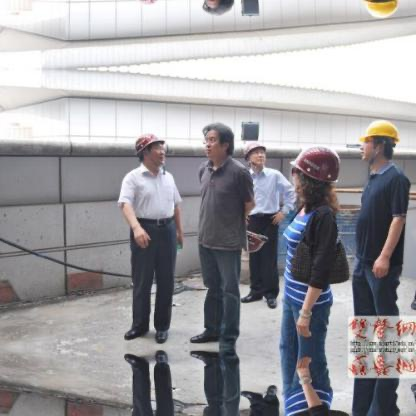No Safety Helmet: (198, 121, 238, 172)
Safety Helmet: (286, 140, 346, 209), (355, 116, 405, 174), (129, 128, 173, 177), (241, 137, 273, 175)
